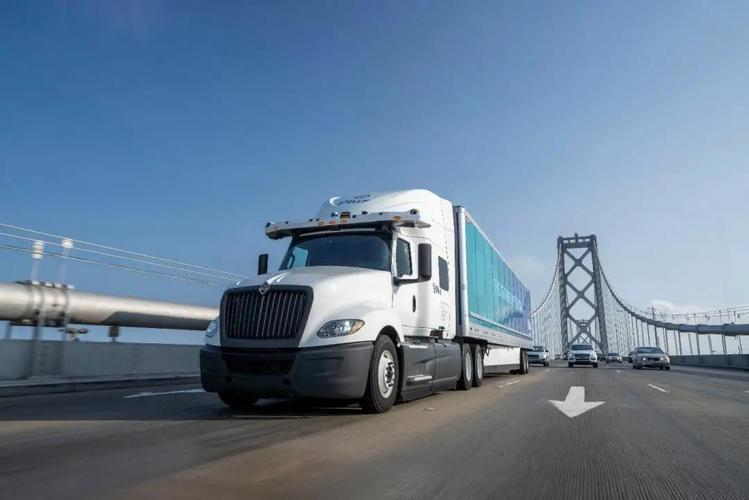卡车: (188, 185, 536, 406)
